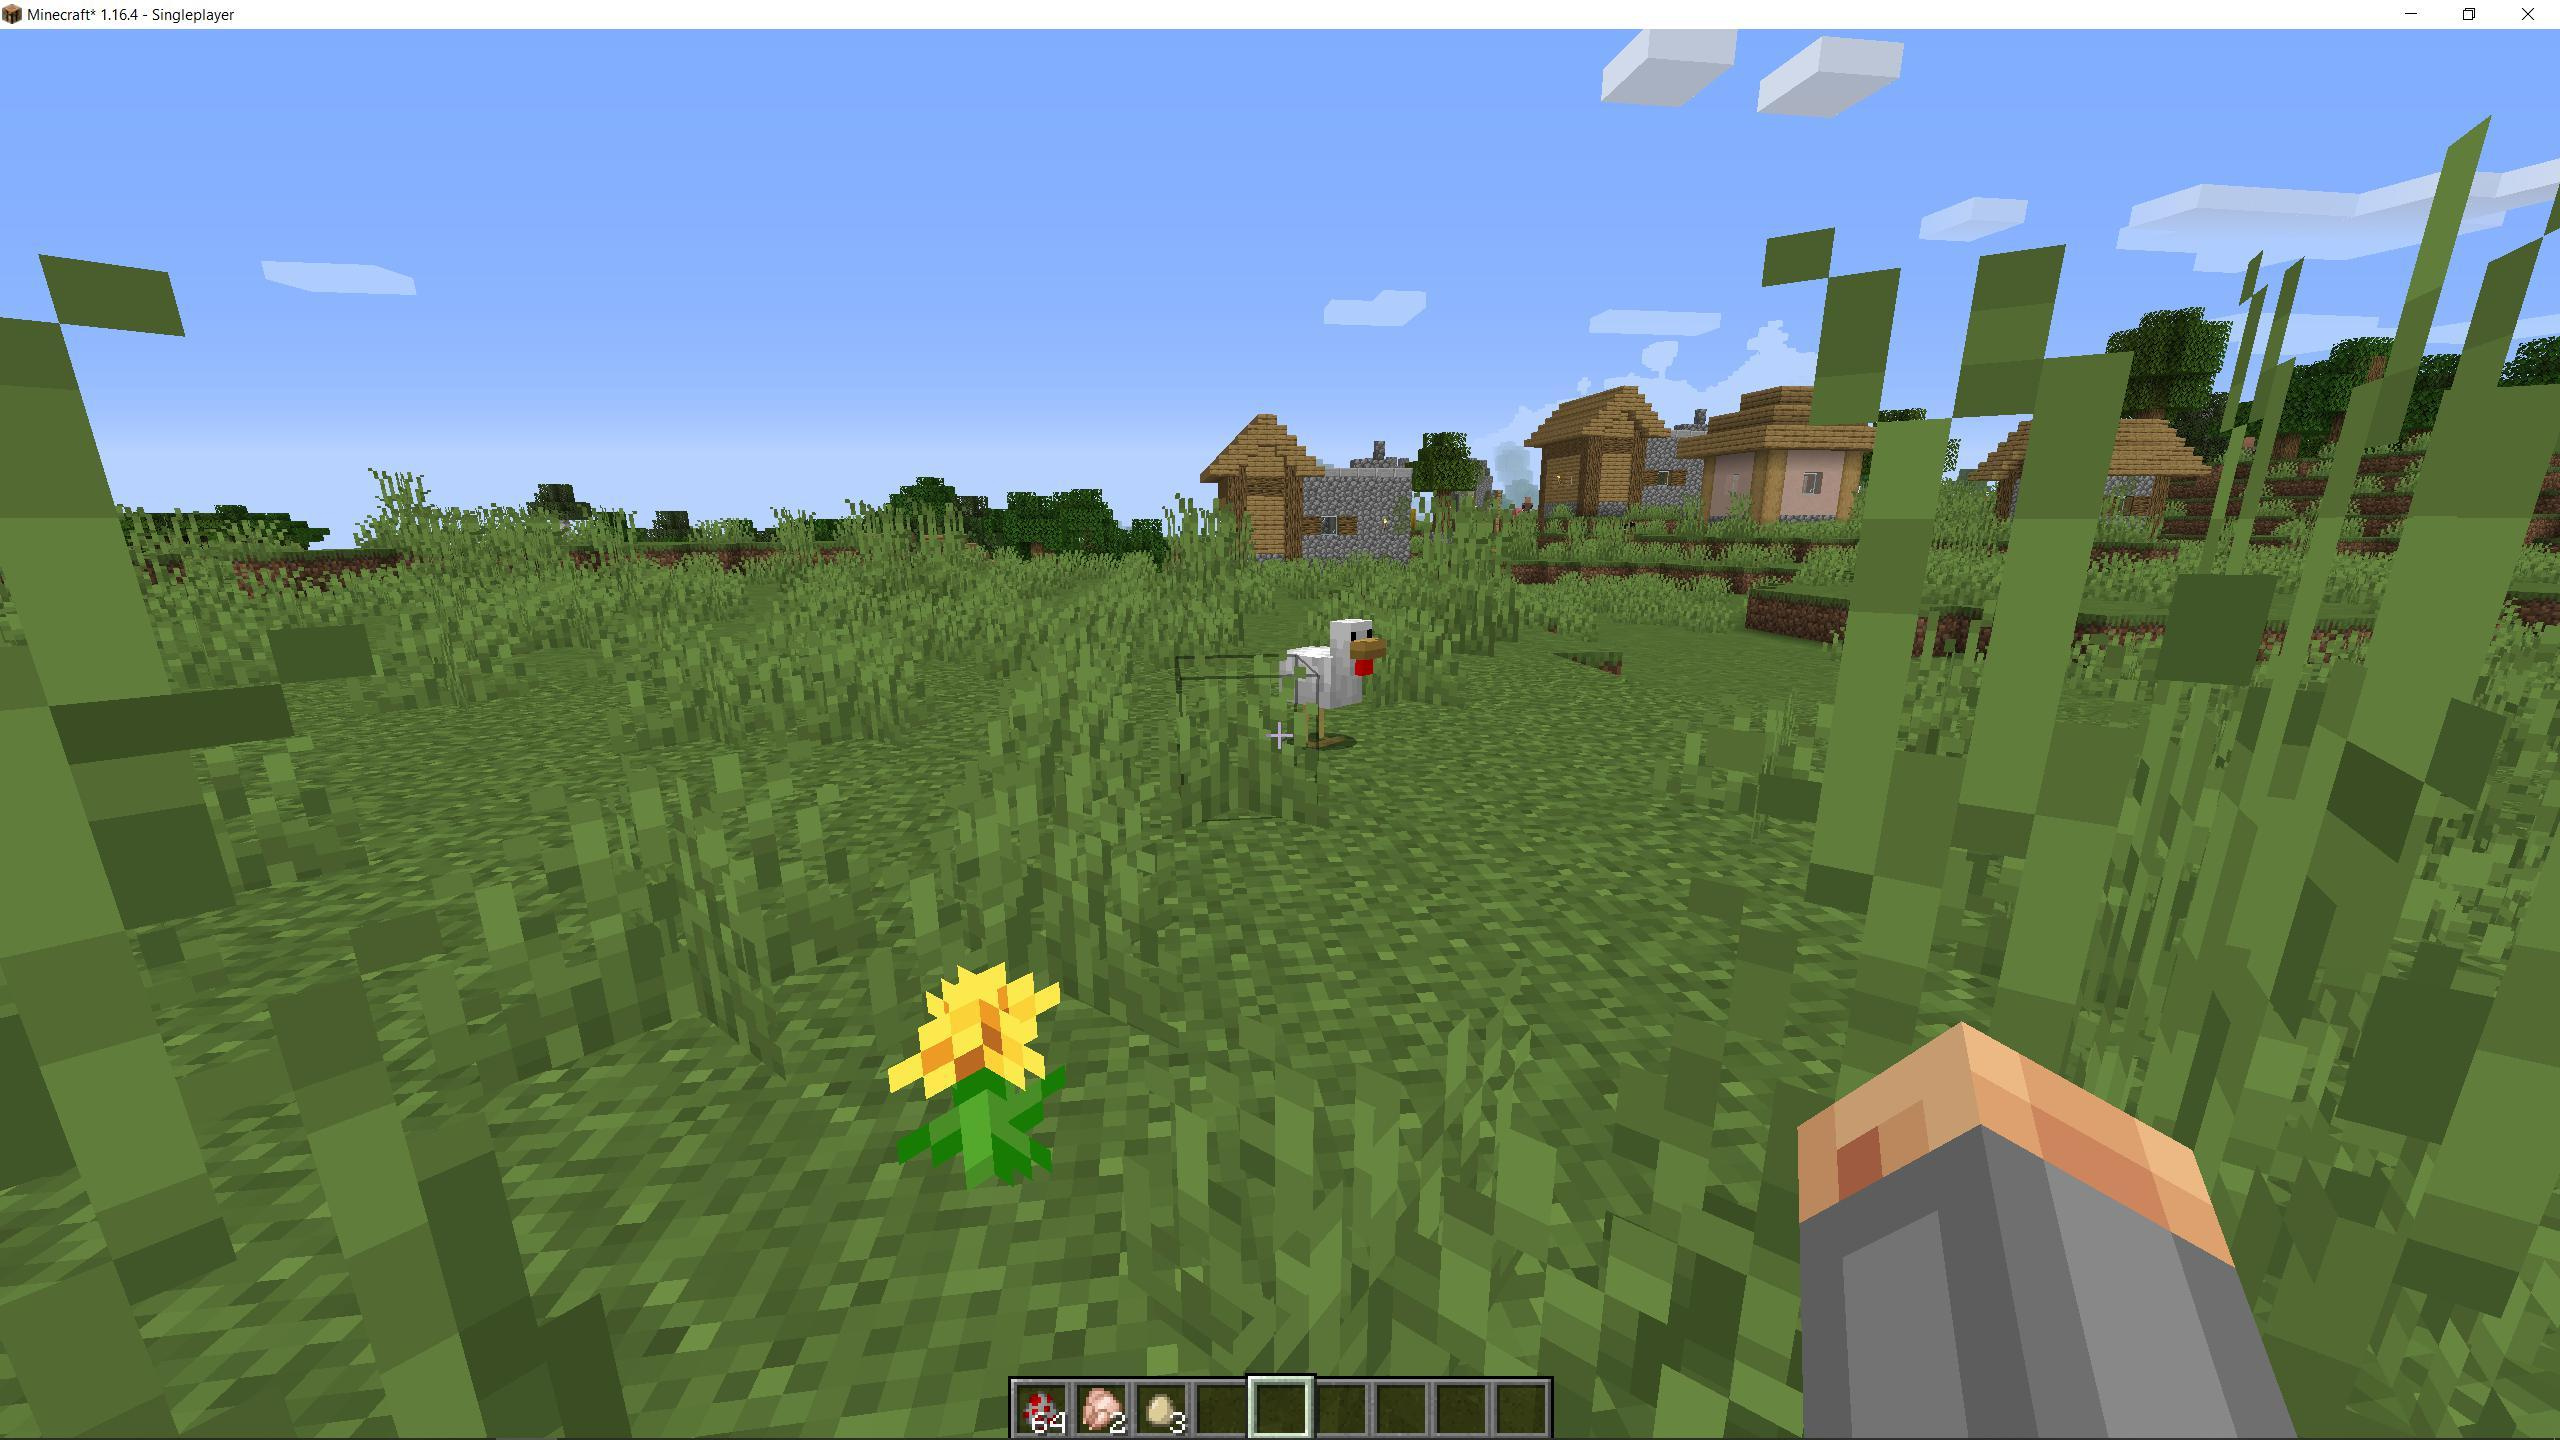chicken: (1278, 612, 1393, 753)
